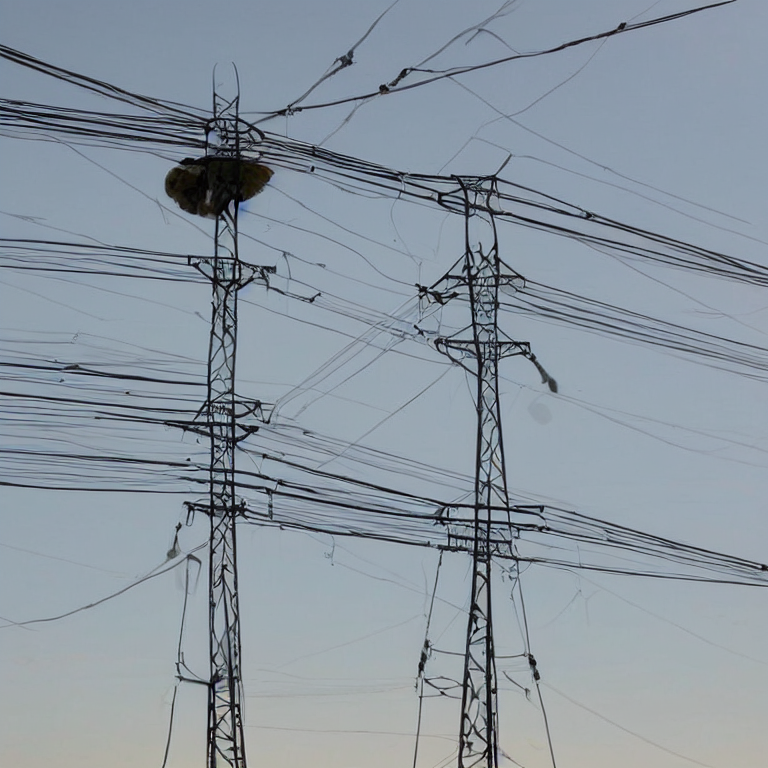nest: (165, 156, 270, 212)
